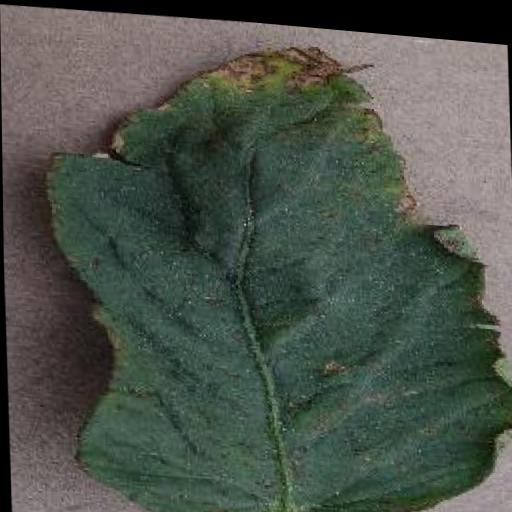Bacterial Spot: (30, 12, 512, 512)
